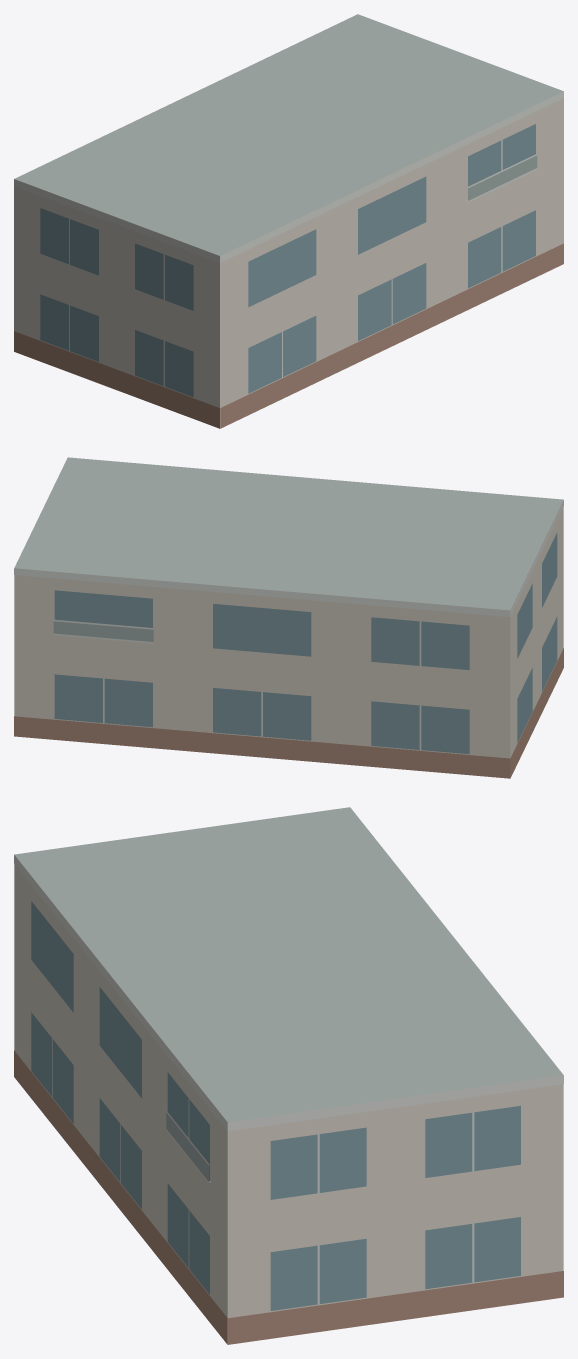
Rendered from survey-upis-32825755.glb.
3 views of the same model, one above another, from view 1: azimuth 30°, elevation 25°; view 2: azimuth 150°, elevation 25°; view 3: azimuth 270°, elevation 25° (orthographic). The views are drawn at different scales.
Parts seen in each view (by area): view 1: survey-upis-32825755.tmp; view 2: survey-upis-32825755.tmp; view 3: survey-upis-32825755.tmp.
Part boxes in pixels (x1,y1,x2,y2): survey-upis-32825755.tmp: [14, 14, 563, 428]; survey-upis-32825755.tmp: [14, 457, 563, 778]; survey-upis-32825755.tmp: [14, 807, 563, 1344].
Bounding box in the file's own units: 18.57 × 6.1 × 13.68.
